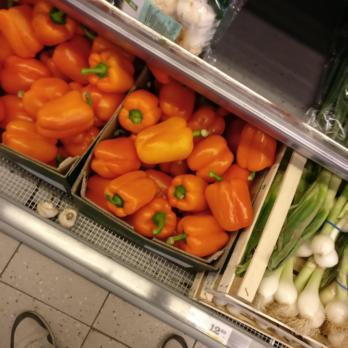Capsicum: (129, 86, 232, 241), (0, 0, 62, 152), (219, 121, 268, 235), (62, 43, 128, 105), (87, 139, 142, 211)
